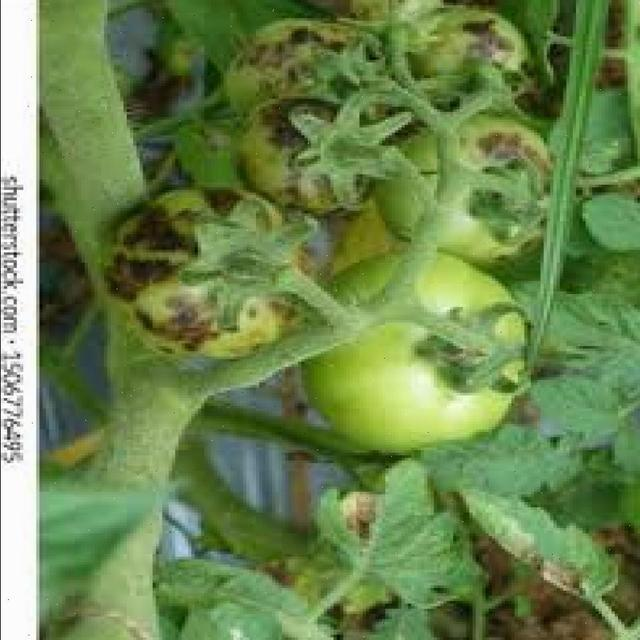Spotted wilt Virus Fruit: (93, 36, 308, 183)
